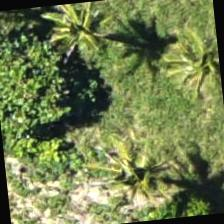Kelapa_Sawit: (86, 116, 185, 215), (31, 0, 129, 80), (153, 17, 223, 114)
